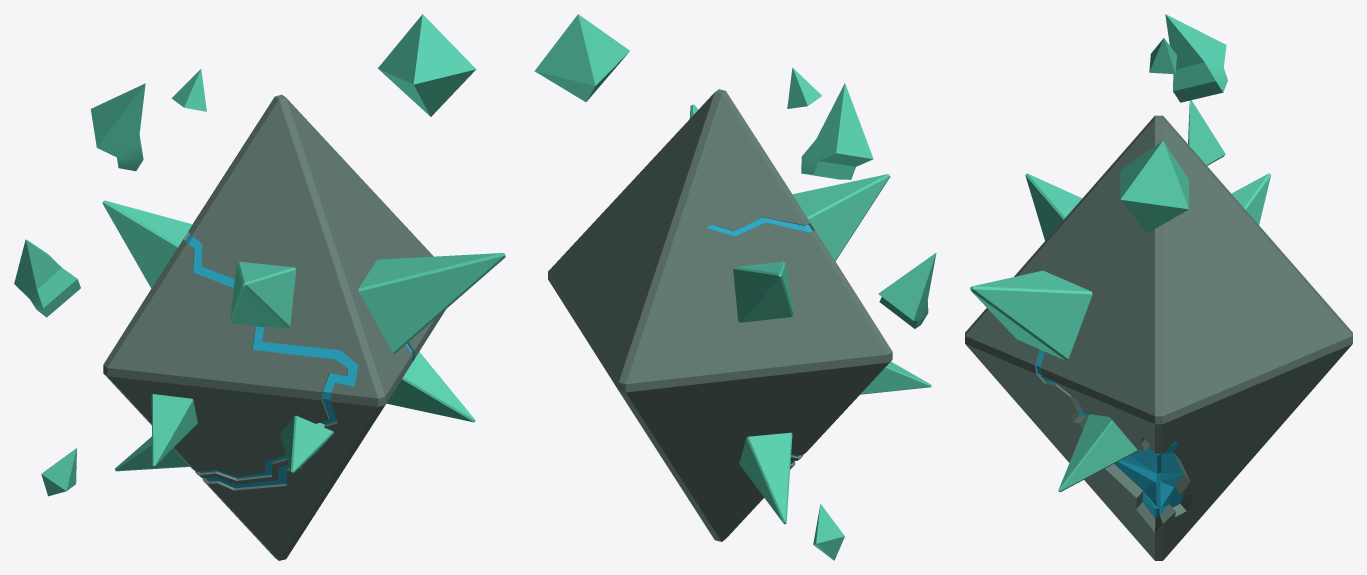
The model's file is Explosive_Planet_Icy_Crystals.fbx.
The picture shows the model from 3 angles, left to right: view 1: azimuth 30°, elevation 25°; view 2: azimuth 150°, elevation 25°; view 3: azimuth 270°, elevation 25°; orthographic projection. The views are drawn at different scales.
Parts seen in each view (by area): view 1: Planet_IceCrystals_Mesh; view 2: Planet_IceCrystals_Mesh; view 3: Planet_IceCrystals_Mesh.
Part boxes in pixels (x1,y1,x2,y2): Planet_IceCrystals_Mesh: (14, 14, 505, 560); Planet_IceCrystals_Mesh: (534, 14, 936, 560); Planet_IceCrystals_Mesh: (965, 14, 1352, 560).
Size of the model in its own units: 5.79 by 6.78 by 4.9.
